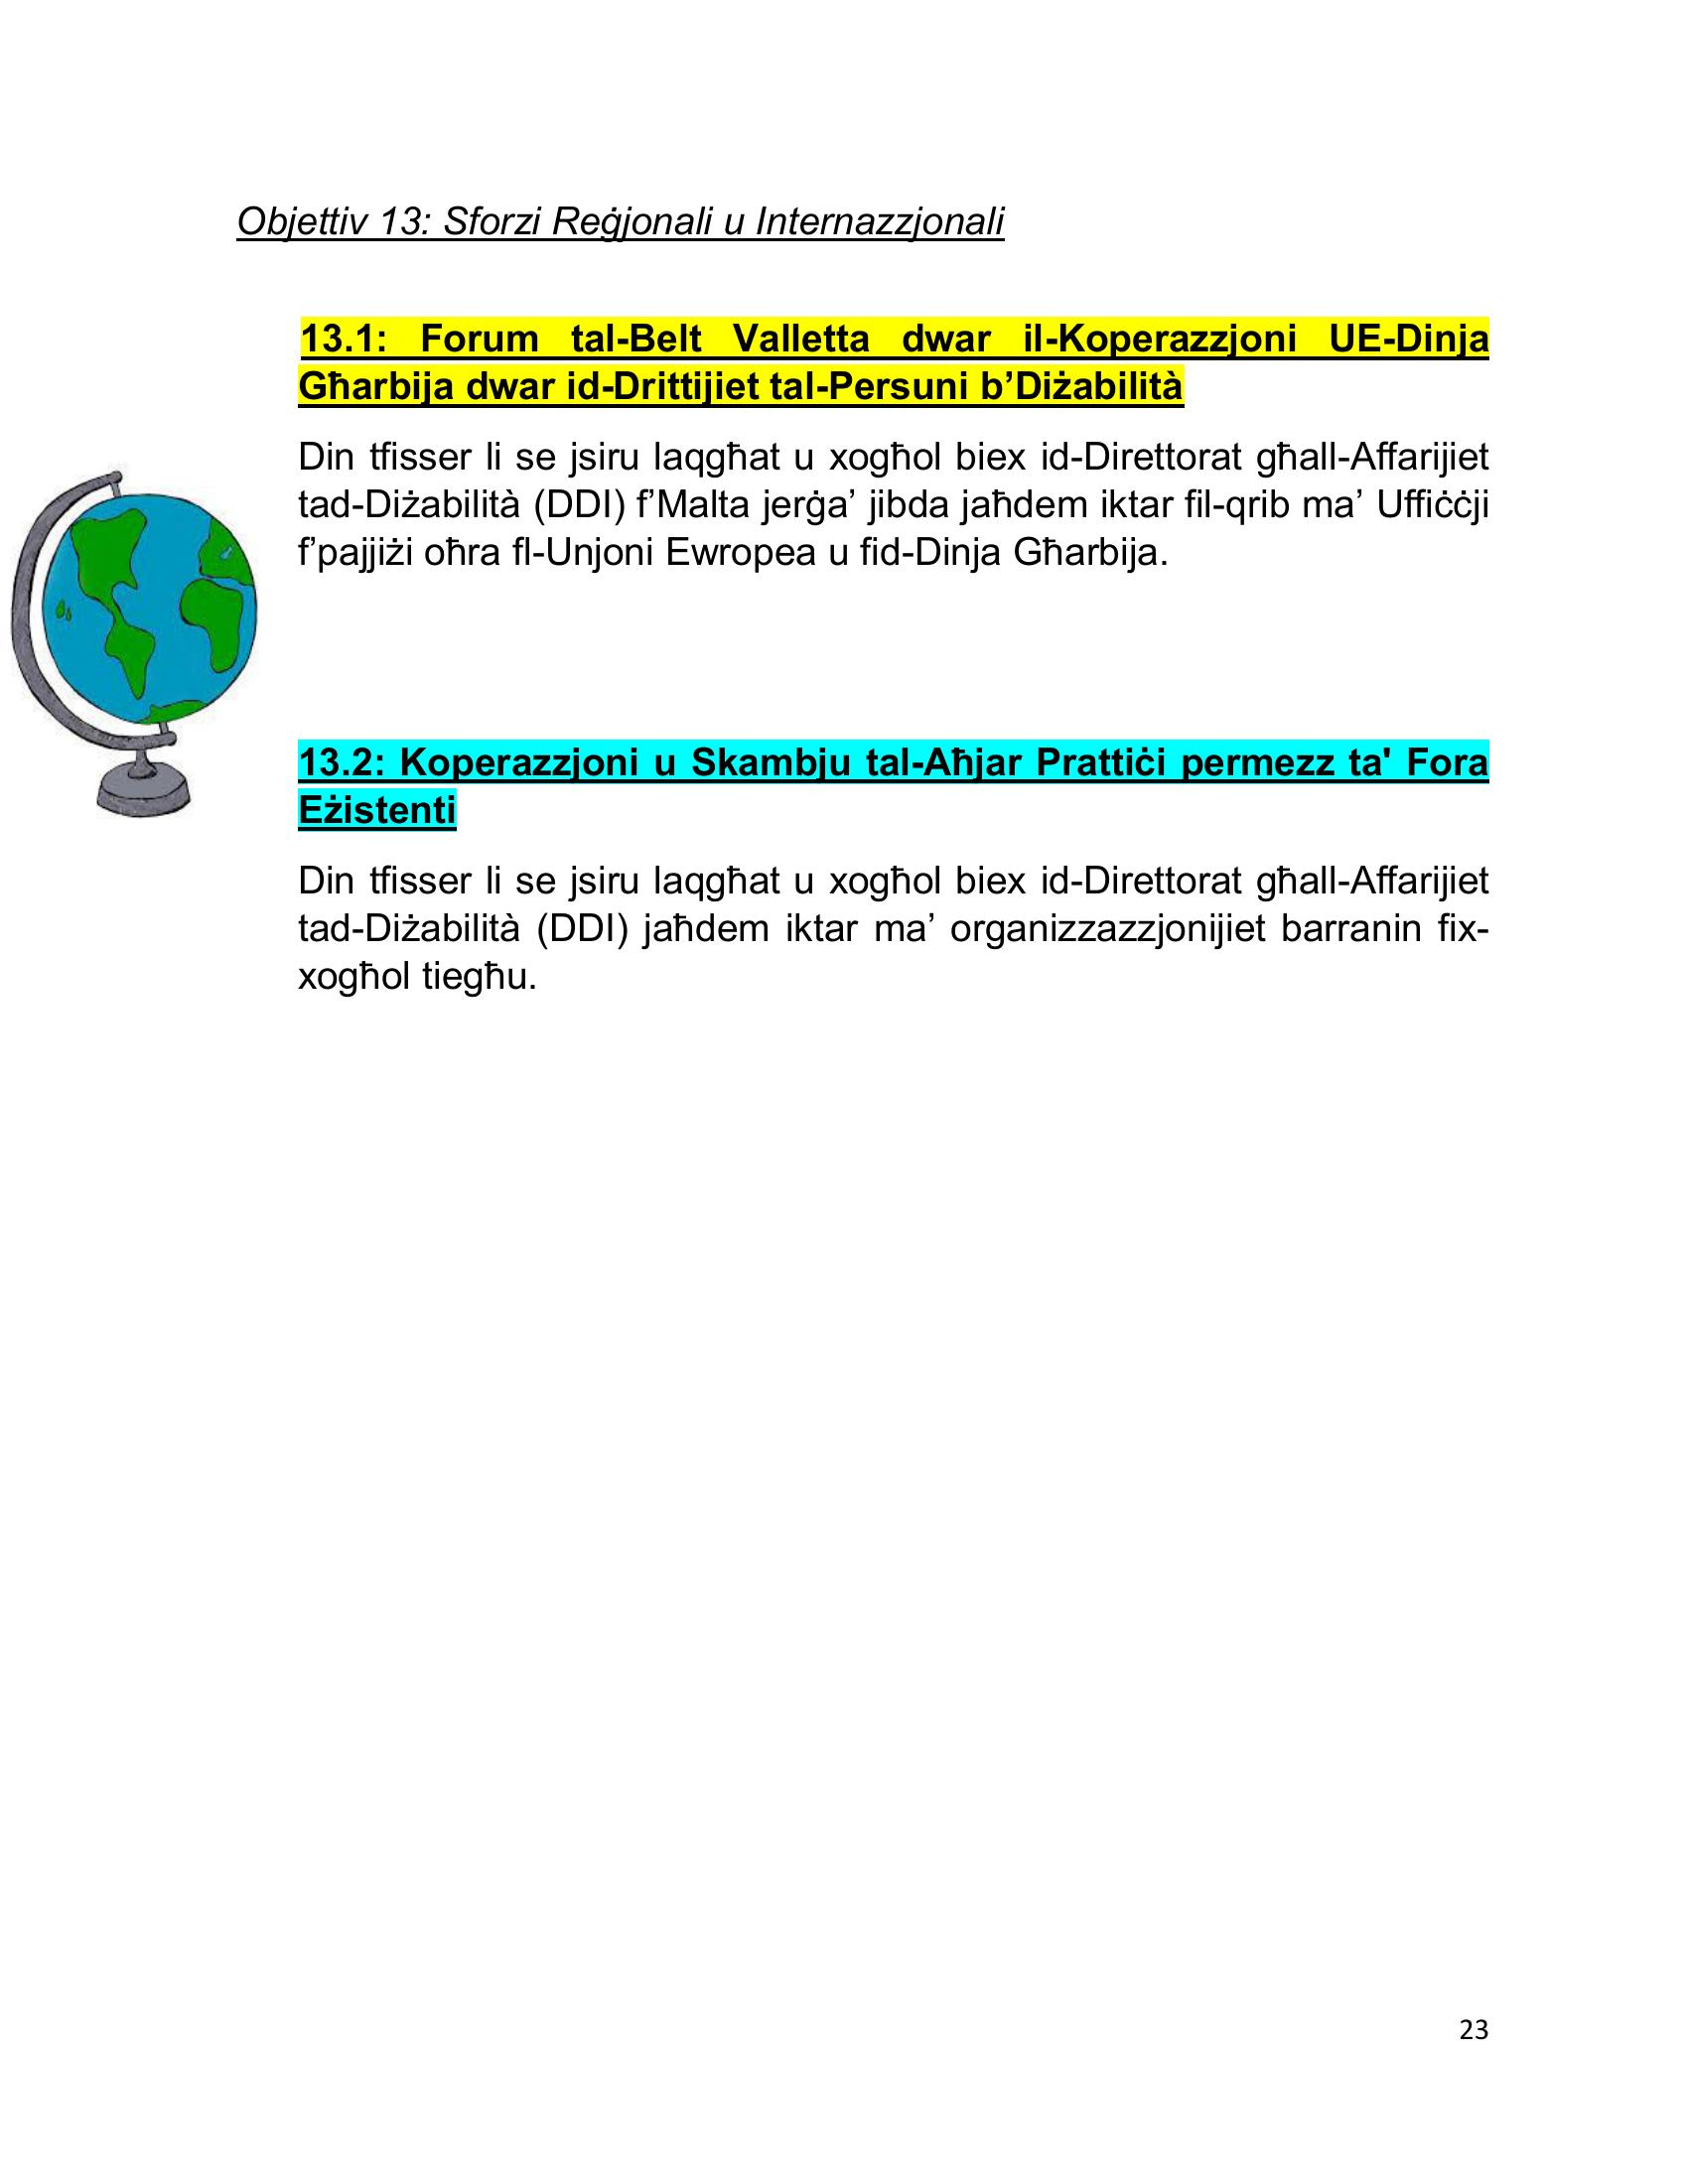text: (282, 310, 1564, 1019), (223, 188, 1032, 261)
